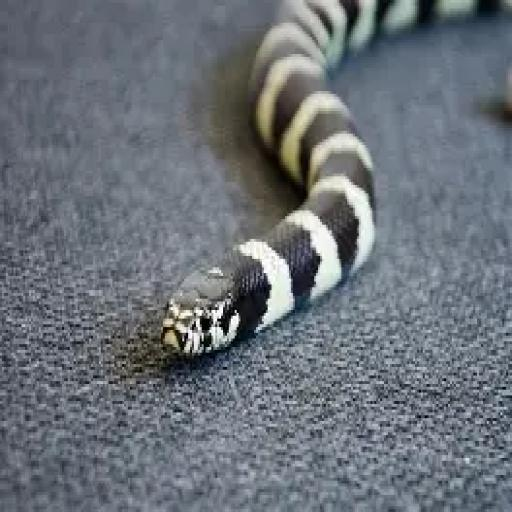snake: (163, 0, 511, 355)
